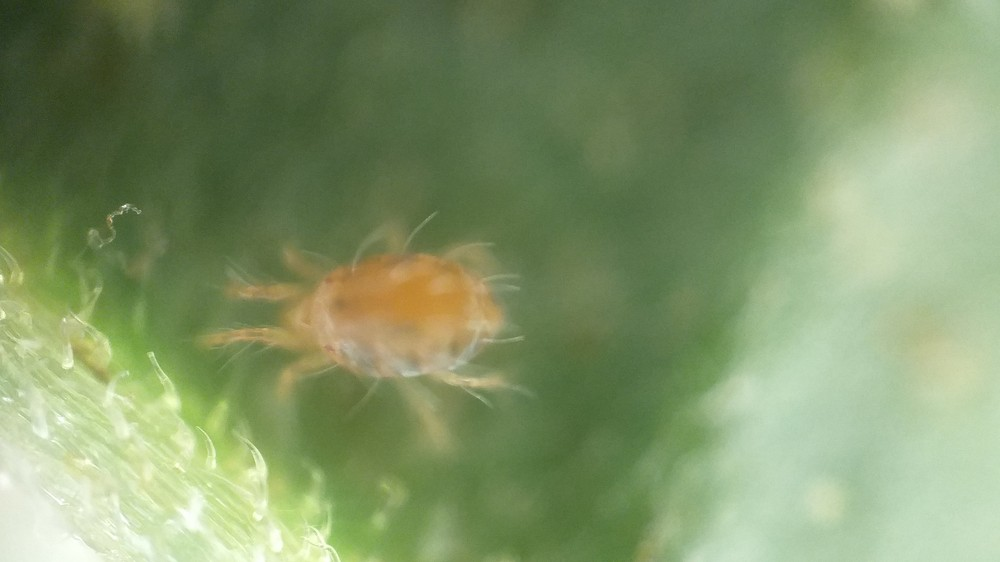Aracnido Rojo: (195, 213, 566, 444)
